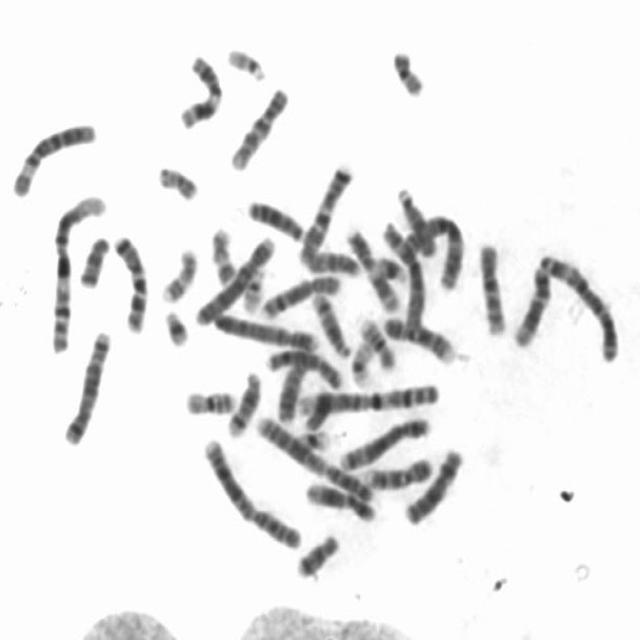A1: (46, 186, 110, 356), (291, 376, 443, 418)
A2: (197, 430, 305, 552), (250, 409, 374, 505)
A3: (532, 246, 622, 364), (397, 206, 467, 291)
B4: (190, 230, 278, 328), (207, 304, 322, 352)
B5: (59, 323, 115, 448), (334, 411, 434, 472)
C10: (226, 79, 293, 174), (474, 235, 509, 338)
C11: (340, 221, 403, 314), (174, 47, 225, 132)
C12: (508, 262, 554, 348), (300, 475, 377, 523)
C6: (7, 115, 99, 200), (377, 215, 429, 332)
C7: (295, 161, 357, 264), (108, 228, 150, 335)
C8: (256, 268, 344, 320), (261, 342, 346, 391)
C9: (379, 308, 458, 364), (360, 450, 436, 491)
D13: (271, 342, 322, 426), (242, 191, 307, 243)
D14: (307, 285, 354, 360), (221, 363, 264, 439)
D15: (393, 181, 440, 258), (302, 247, 361, 279)
E16: (354, 310, 399, 372), (180, 382, 239, 417)
E17: (157, 242, 200, 305), (206, 221, 240, 286)
E18: (292, 527, 342, 579), (75, 229, 112, 289)
F19: (345, 335, 376, 388), (292, 423, 334, 453)
F20: (388, 42, 428, 99), (153, 159, 201, 202)
G21: (159, 302, 193, 348), (372, 250, 408, 286)
G22: (222, 41, 269, 83), (238, 262, 268, 314)
X: (399, 442, 466, 527), (261, 342, 346, 391)
Y: (302, 384, 335, 432)
